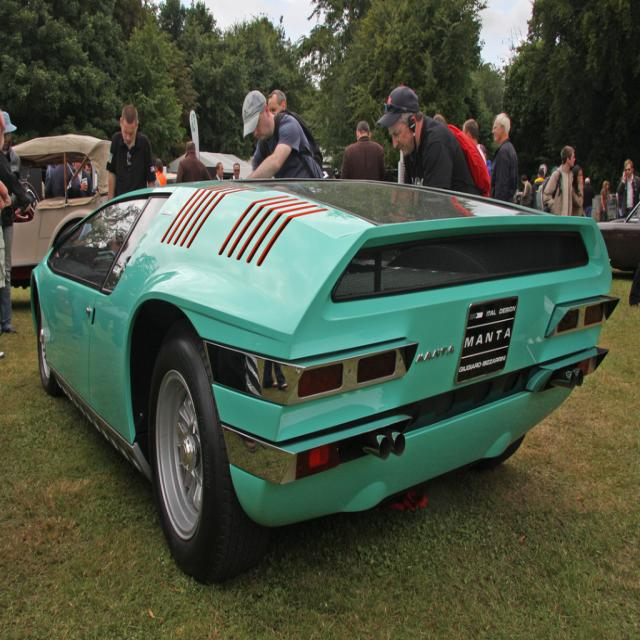car: (28, 175, 625, 582)
